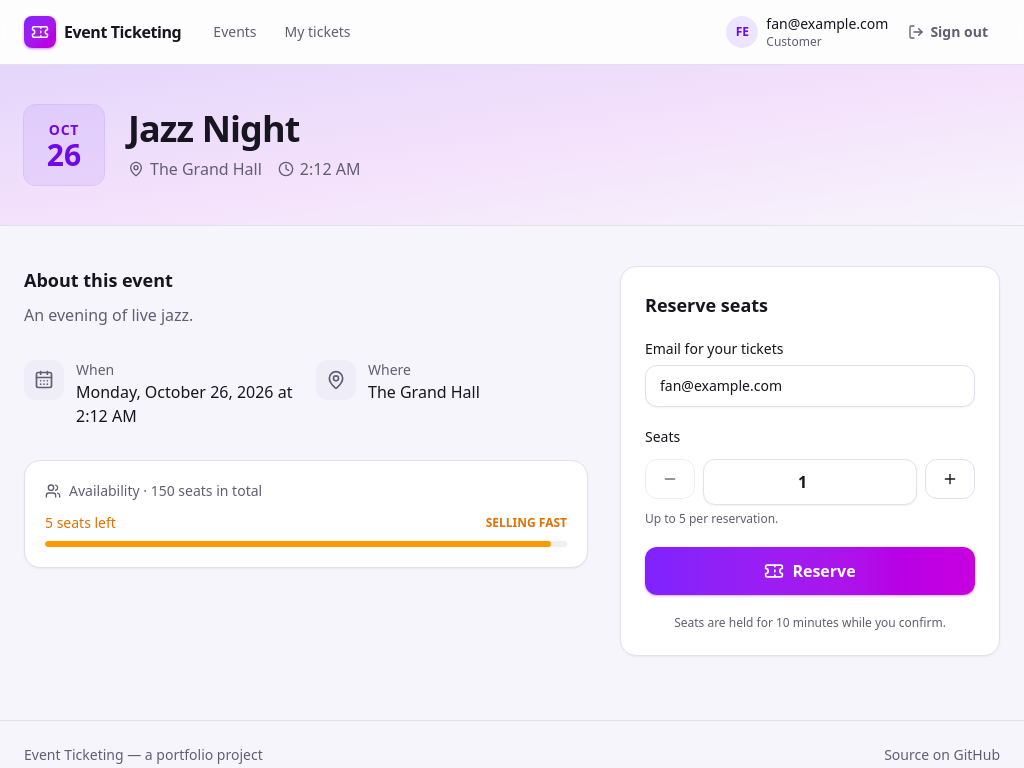
Scenario: EventDetailPage › shows why a reservation was refused
Click the button "Reserve" at {"x": 810, "y": 571}, box [645,547,975,595]
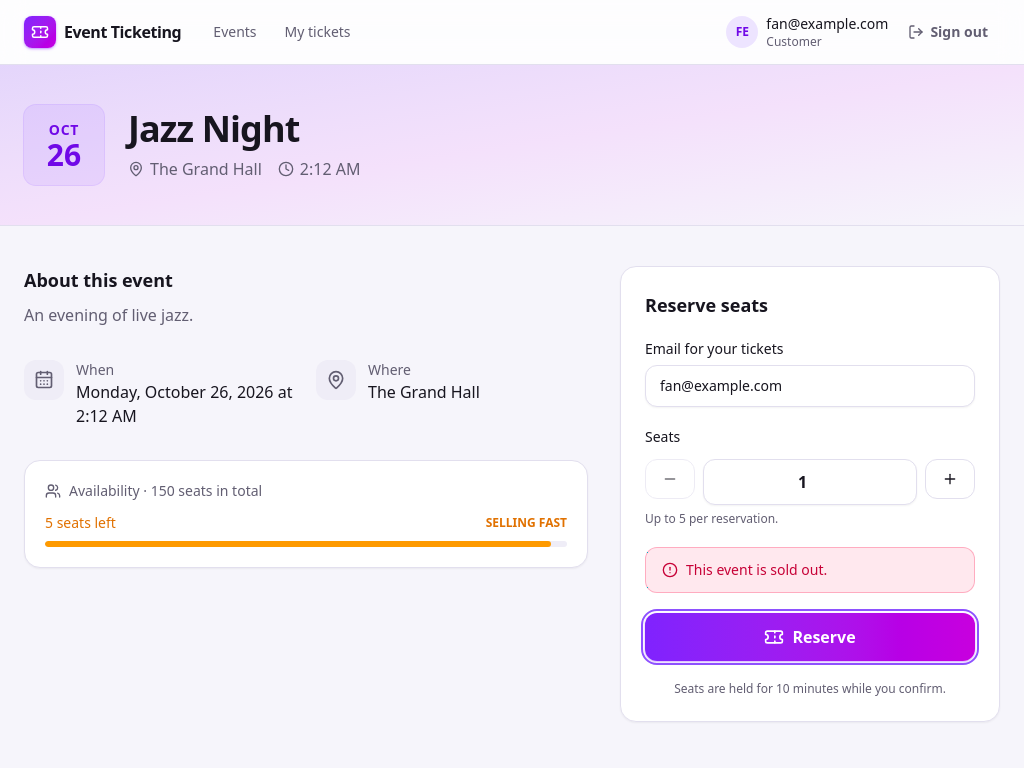
Now the message reads "This event is sold out.", box [686,560,827,579]
